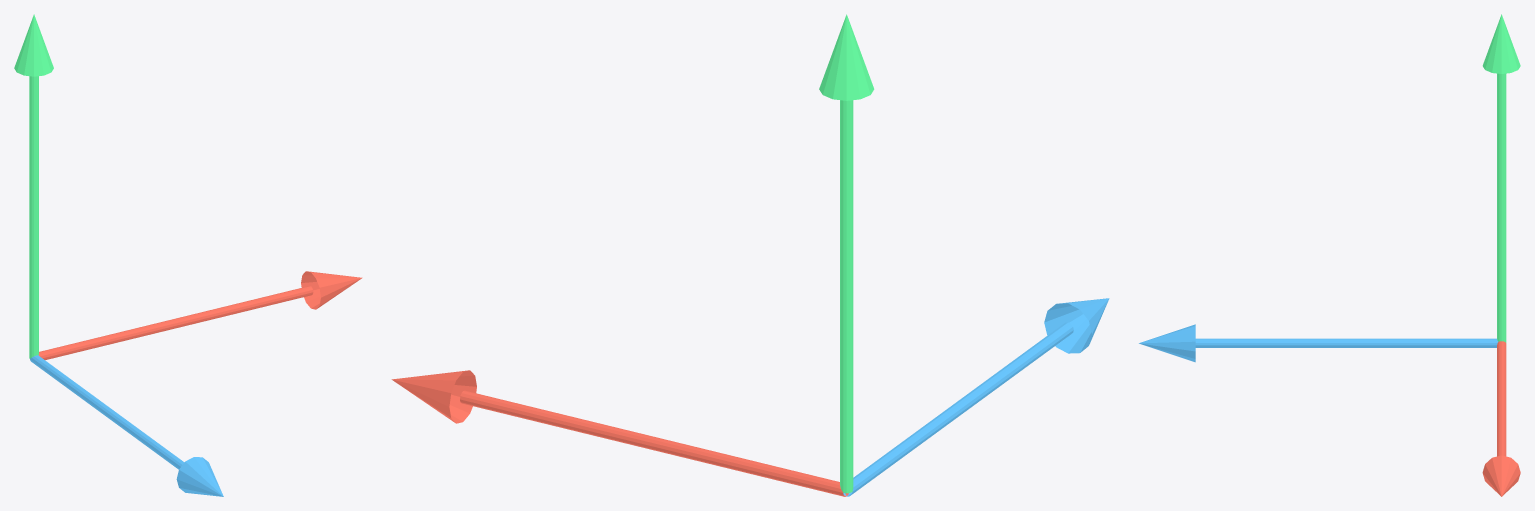
The model's file is model-axes.glb.
3 renders of one model, left to right at view 1: azimuth 30°, elevation 25°; view 2: azimuth 150°, elevation 25°; view 3: azimuth 270°, elevation 25°, orthographic. The views are drawn at different scales.
Size of the model in its own units: 1 by 1 by 1.
